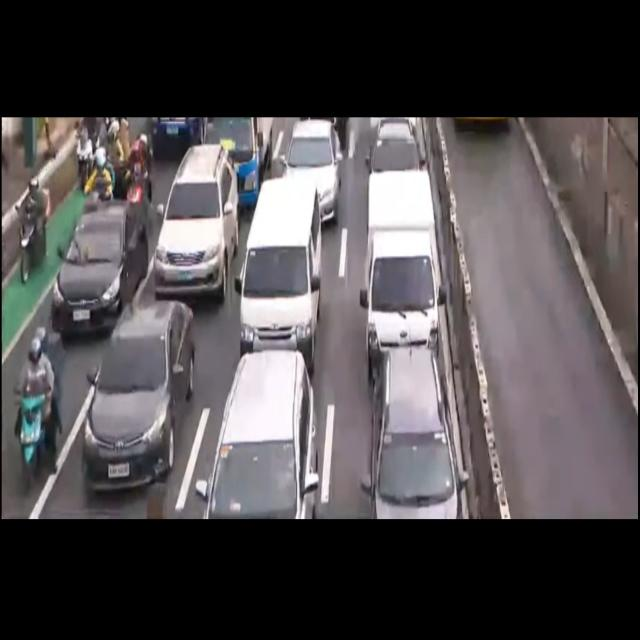Motorcycle: (16, 338, 56, 471), (122, 122, 156, 245), (16, 178, 49, 289), (79, 141, 112, 200)
SUV: (198, 328, 316, 516), (366, 324, 462, 516), (155, 145, 237, 292)
Sedan: (86, 312, 192, 484), (54, 206, 151, 333)
Truck: (362, 166, 442, 375)
Van: (232, 180, 328, 350)
